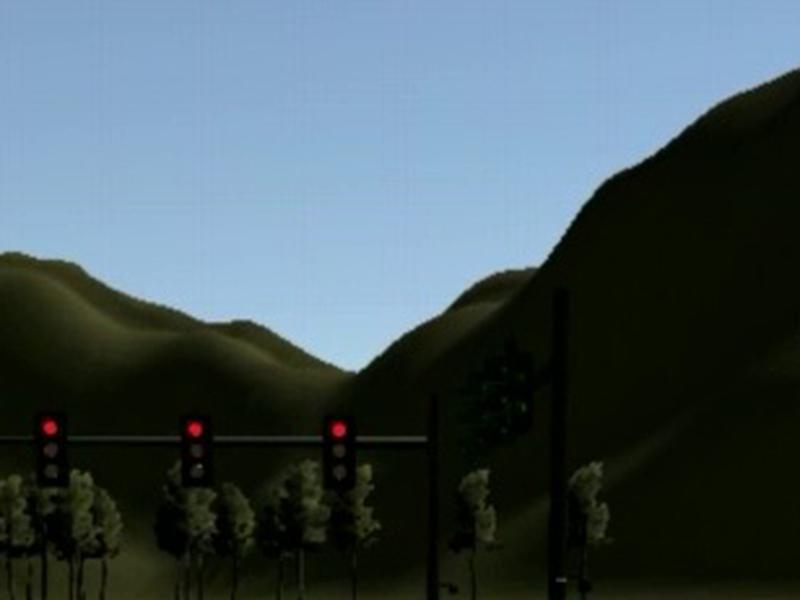Red: (321, 413, 356, 492), (180, 413, 214, 489), (33, 414, 67, 488)
